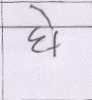e_matra: (30, 5, 56, 26)
